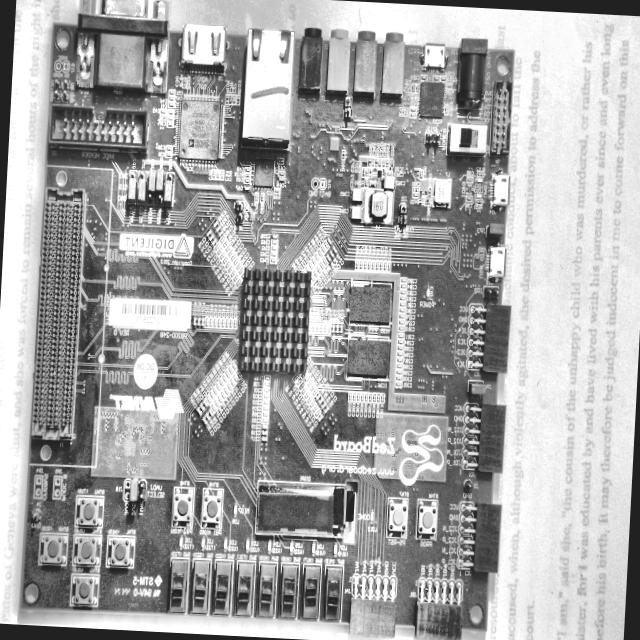PCB: (22, 0, 531, 639)
